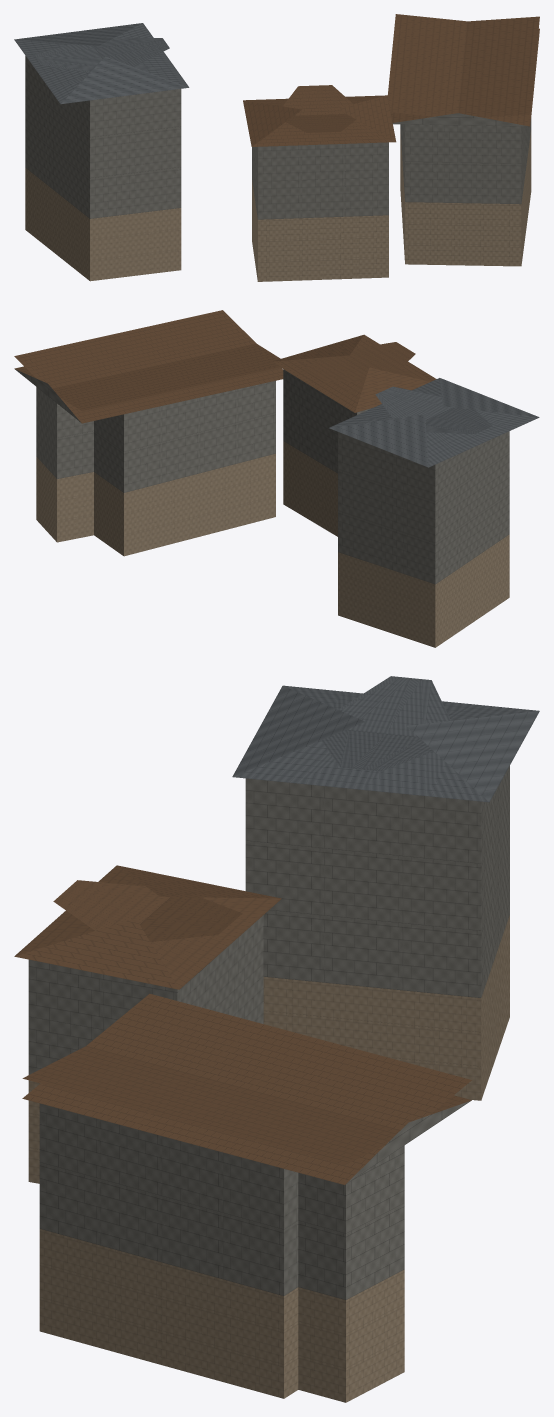
File: bld_c38_35_294.gltf
3 views of the same model, one above another, from view 1: azimuth 30°, elevation 25°; view 2: azimuth 150°, elevation 25°; view 3: azimuth 270°, elevation 25° (orthographic). The views are drawn at different scales.
Parts seen in each view (by area): view 1: bld_c38_35_294; view 2: bld_c38_35_294; view 3: bld_c38_35_294.
Boxes of the visible parts, <box> form: bld_c38_35_294: <box>14,14,539,281</box>; bld_c38_35_294: <box>14,310,539,647</box>; bld_c38_35_294: <box>14,676,539,1402</box>.
Bounding box in the file's own units: 42.7 × 17.6 × 23.67.
Materials: 5 (5 with a texture image).
